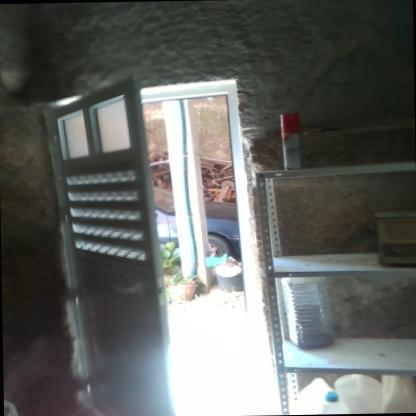semi: (34, 67, 263, 416)
